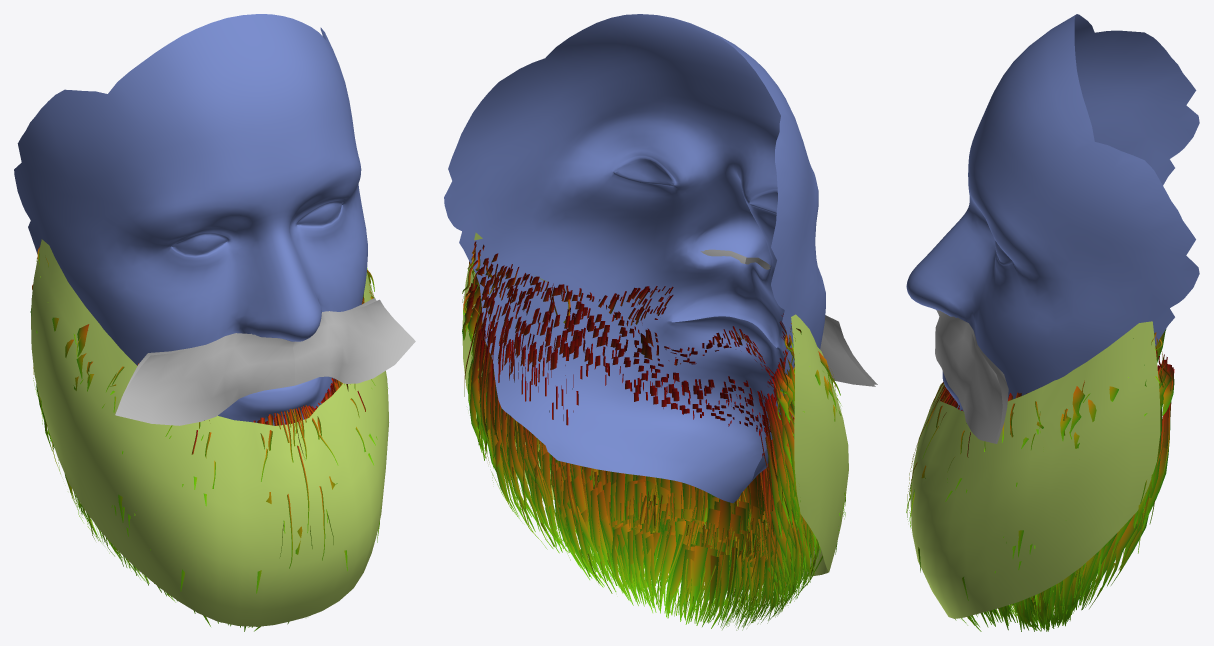
Rendered from beard.FBX.
3 views of the same model, side by side, from view 1: azimuth 30°, elevation 25°; view 2: azimuth 150°, elevation 25°; view 3: azimuth 270°, elevation 25° (orthographic). The views are drawn at different scales.
Parts seen in each view (by area): view 1: Face_fix_01, Object060, Box001, FurBall007; view 2: Face_fix_01, FurBall007, Object060, Box001; view 3: Face_fix_01, Object060, FurBall007, Box001.
Boxes of the visible parts, x1,y1,x2,y2 form: Face_fix_01: (14, 14, 367, 425); Object060: (31, 239, 389, 626); Box001: (115, 298, 415, 425); FurBall007: (30, 247, 388, 631); Face_fix_01: (444, 14, 825, 503); FurBall007: (462, 241, 845, 630); Object060: (462, 232, 848, 576); Box001: (700, 249, 877, 386); Face_fix_01: (906, 14, 1199, 411); Object060: (910, 321, 1160, 618); FurBall007: (906, 329, 1174, 631); Box001: (935, 310, 1008, 443).
Bounding box in the file's own units: 167 × 296 × 133.
